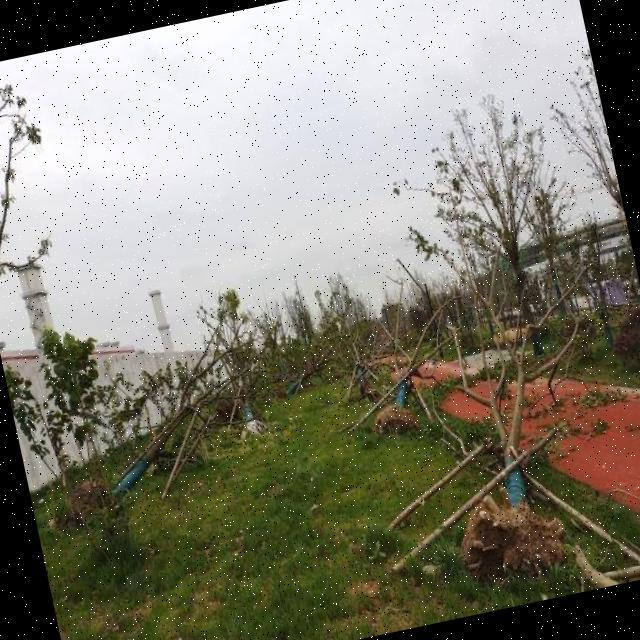fallen_object: (392, 158, 640, 586), (38, 317, 276, 518), (321, 296, 483, 438), (195, 293, 270, 447)
